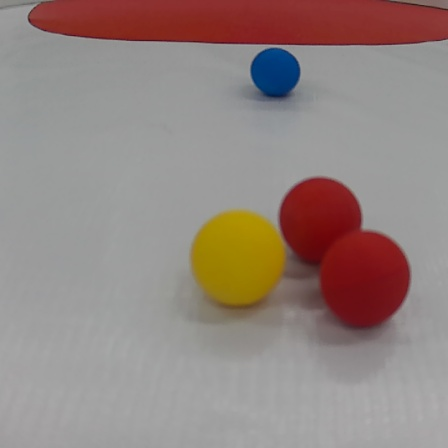blue: (250, 48, 303, 99)
red: (317, 229, 411, 328), (282, 175, 364, 262)
red_base: (28, 4, 448, 45)
yellow: (189, 208, 286, 308)
